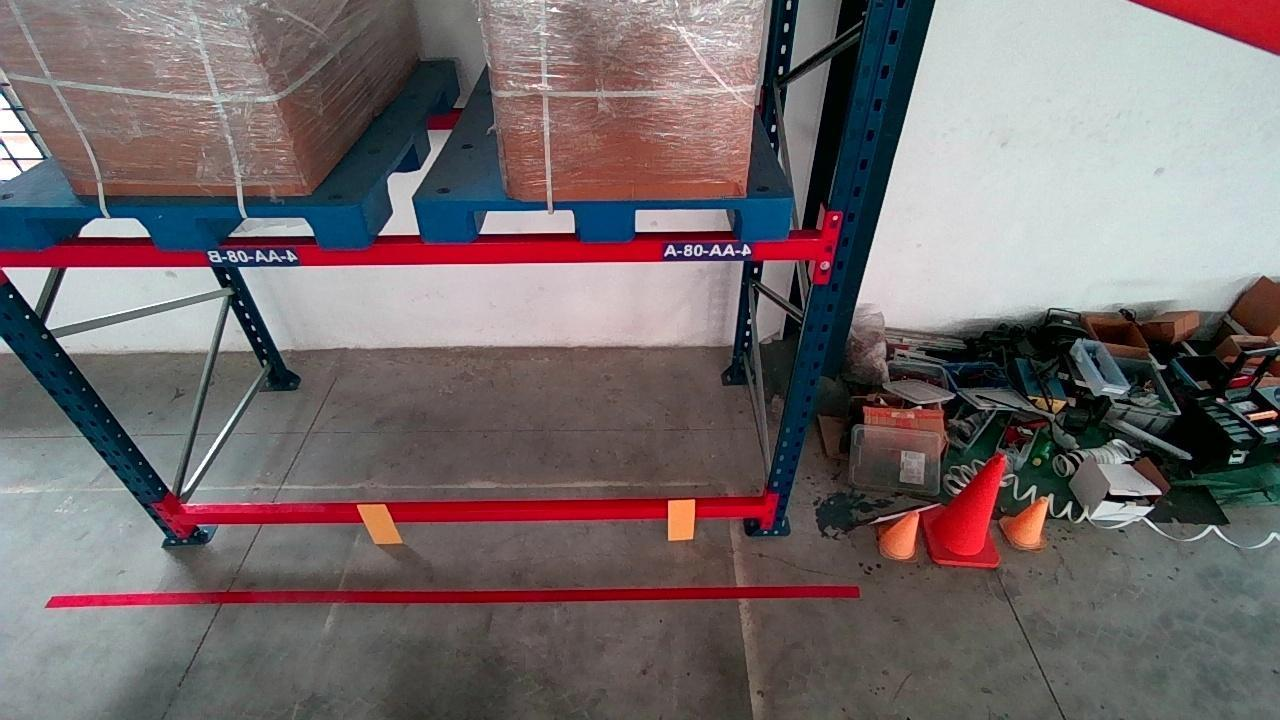h_rack: (22, 225, 812, 271), (182, 492, 760, 525)
orange_strip: (358, 502, 402, 543), (666, 498, 698, 539)
red_line: (51, 575, 859, 628)
small_pallet: (1, 203, 364, 251), (424, 197, 793, 241)
